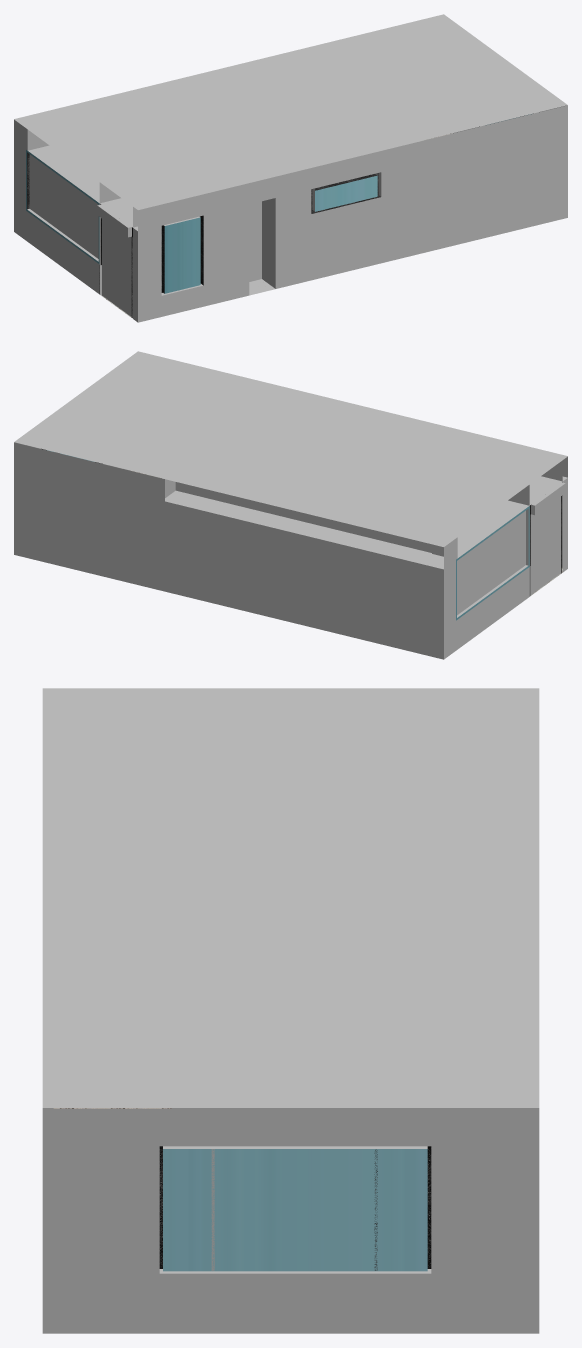
The model's file is Prueba2.fbx.
3 renders of one model, top to bottom at view 1: azimuth 30°, elevation 25°; view 2: azimuth 150°, elevation 25°; view 3: azimuth 270°, elevation 25°, orthographic. The views are drawn at different scales.
Parts seen in each view (by area): view 1: Plane, Plane.001, Vidrios, marcos; view 2: Plane, Plane.001, Vidrios; view 3: Plane.001, Plane, Vidrios, marcos.
Boxes of the visible parts, box(x1,y1,x2,y2) form: Plane: box(14, 105, 567, 322); Plane.001: box(14, 14, 567, 209); Vidrios: box(26, 113, 532, 293); marcos: box(27, 113, 533, 317); Plane: box(14, 442, 567, 659); Plane.001: box(14, 351, 567, 546); Vidrios: box(47, 450, 529, 620); Plane.001: box(42, 688, 539, 1107); Plane: box(42, 1108, 539, 1333); Vidrios: box(163, 1149, 427, 1271); marcos: box(159, 1146, 431, 1270).
Size of the model in its own units: 1816 by 451 by 900.
